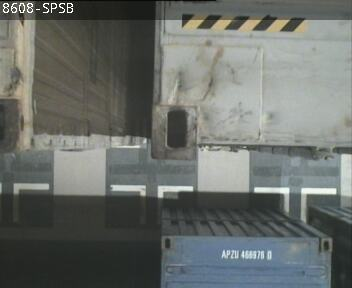groundmarker_1: (109, 183, 194, 222), (254, 186, 335, 222)
